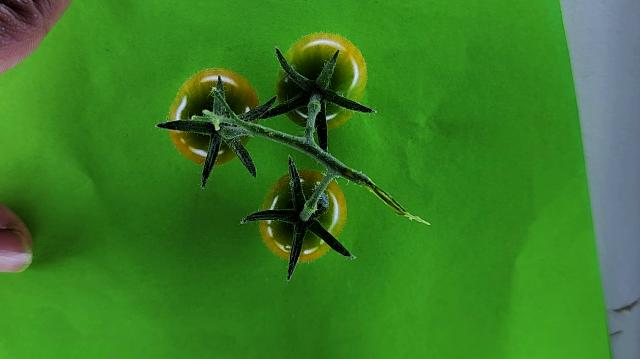Fully Grown: (167, 66, 262, 166), (276, 32, 368, 131), (258, 170, 347, 263)
